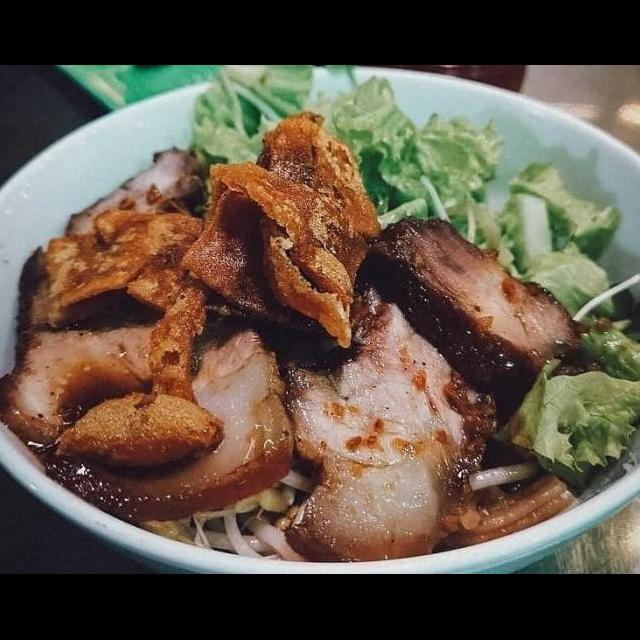banh da: (172, 108, 382, 354), (21, 202, 218, 420), (44, 389, 230, 478)
mi: (438, 468, 582, 554)
thit heo: (272, 281, 500, 568), (27, 302, 300, 528), (358, 212, 608, 404), (0, 242, 205, 456), (59, 142, 222, 250)
